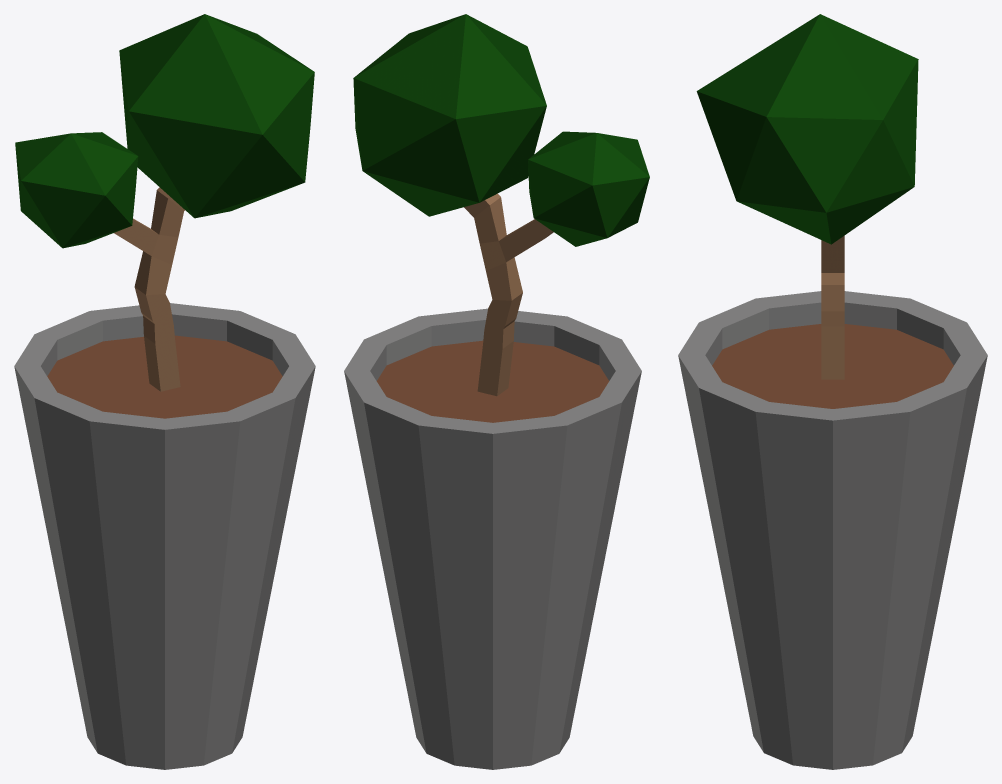
The model's file is FurnAcc_PlantLarge.fbx.
3 renders of one model, left to right at view 1: azimuth 30°, elevation 25°; view 2: azimuth 150°, elevation 25°; view 3: azimuth 270°, elevation 25°, orthographic. The views are drawn at different scales.
Visible parts, largest first — view 1: FurnAcc_PlantLarge; view 2: FurnAcc_PlantLarge; view 3: FurnAcc_PlantLarge.
Part boxes in pixels (box(x1,y1,x2,y2)): FurnAcc_PlantLarge: box(14, 14, 315, 769); FurnAcc_PlantLarge: box(344, 14, 649, 769); FurnAcc_PlantLarge: box(678, 14, 987, 769).
Bounding box in the file's own units: 47.15 × 110 × 41.91.
